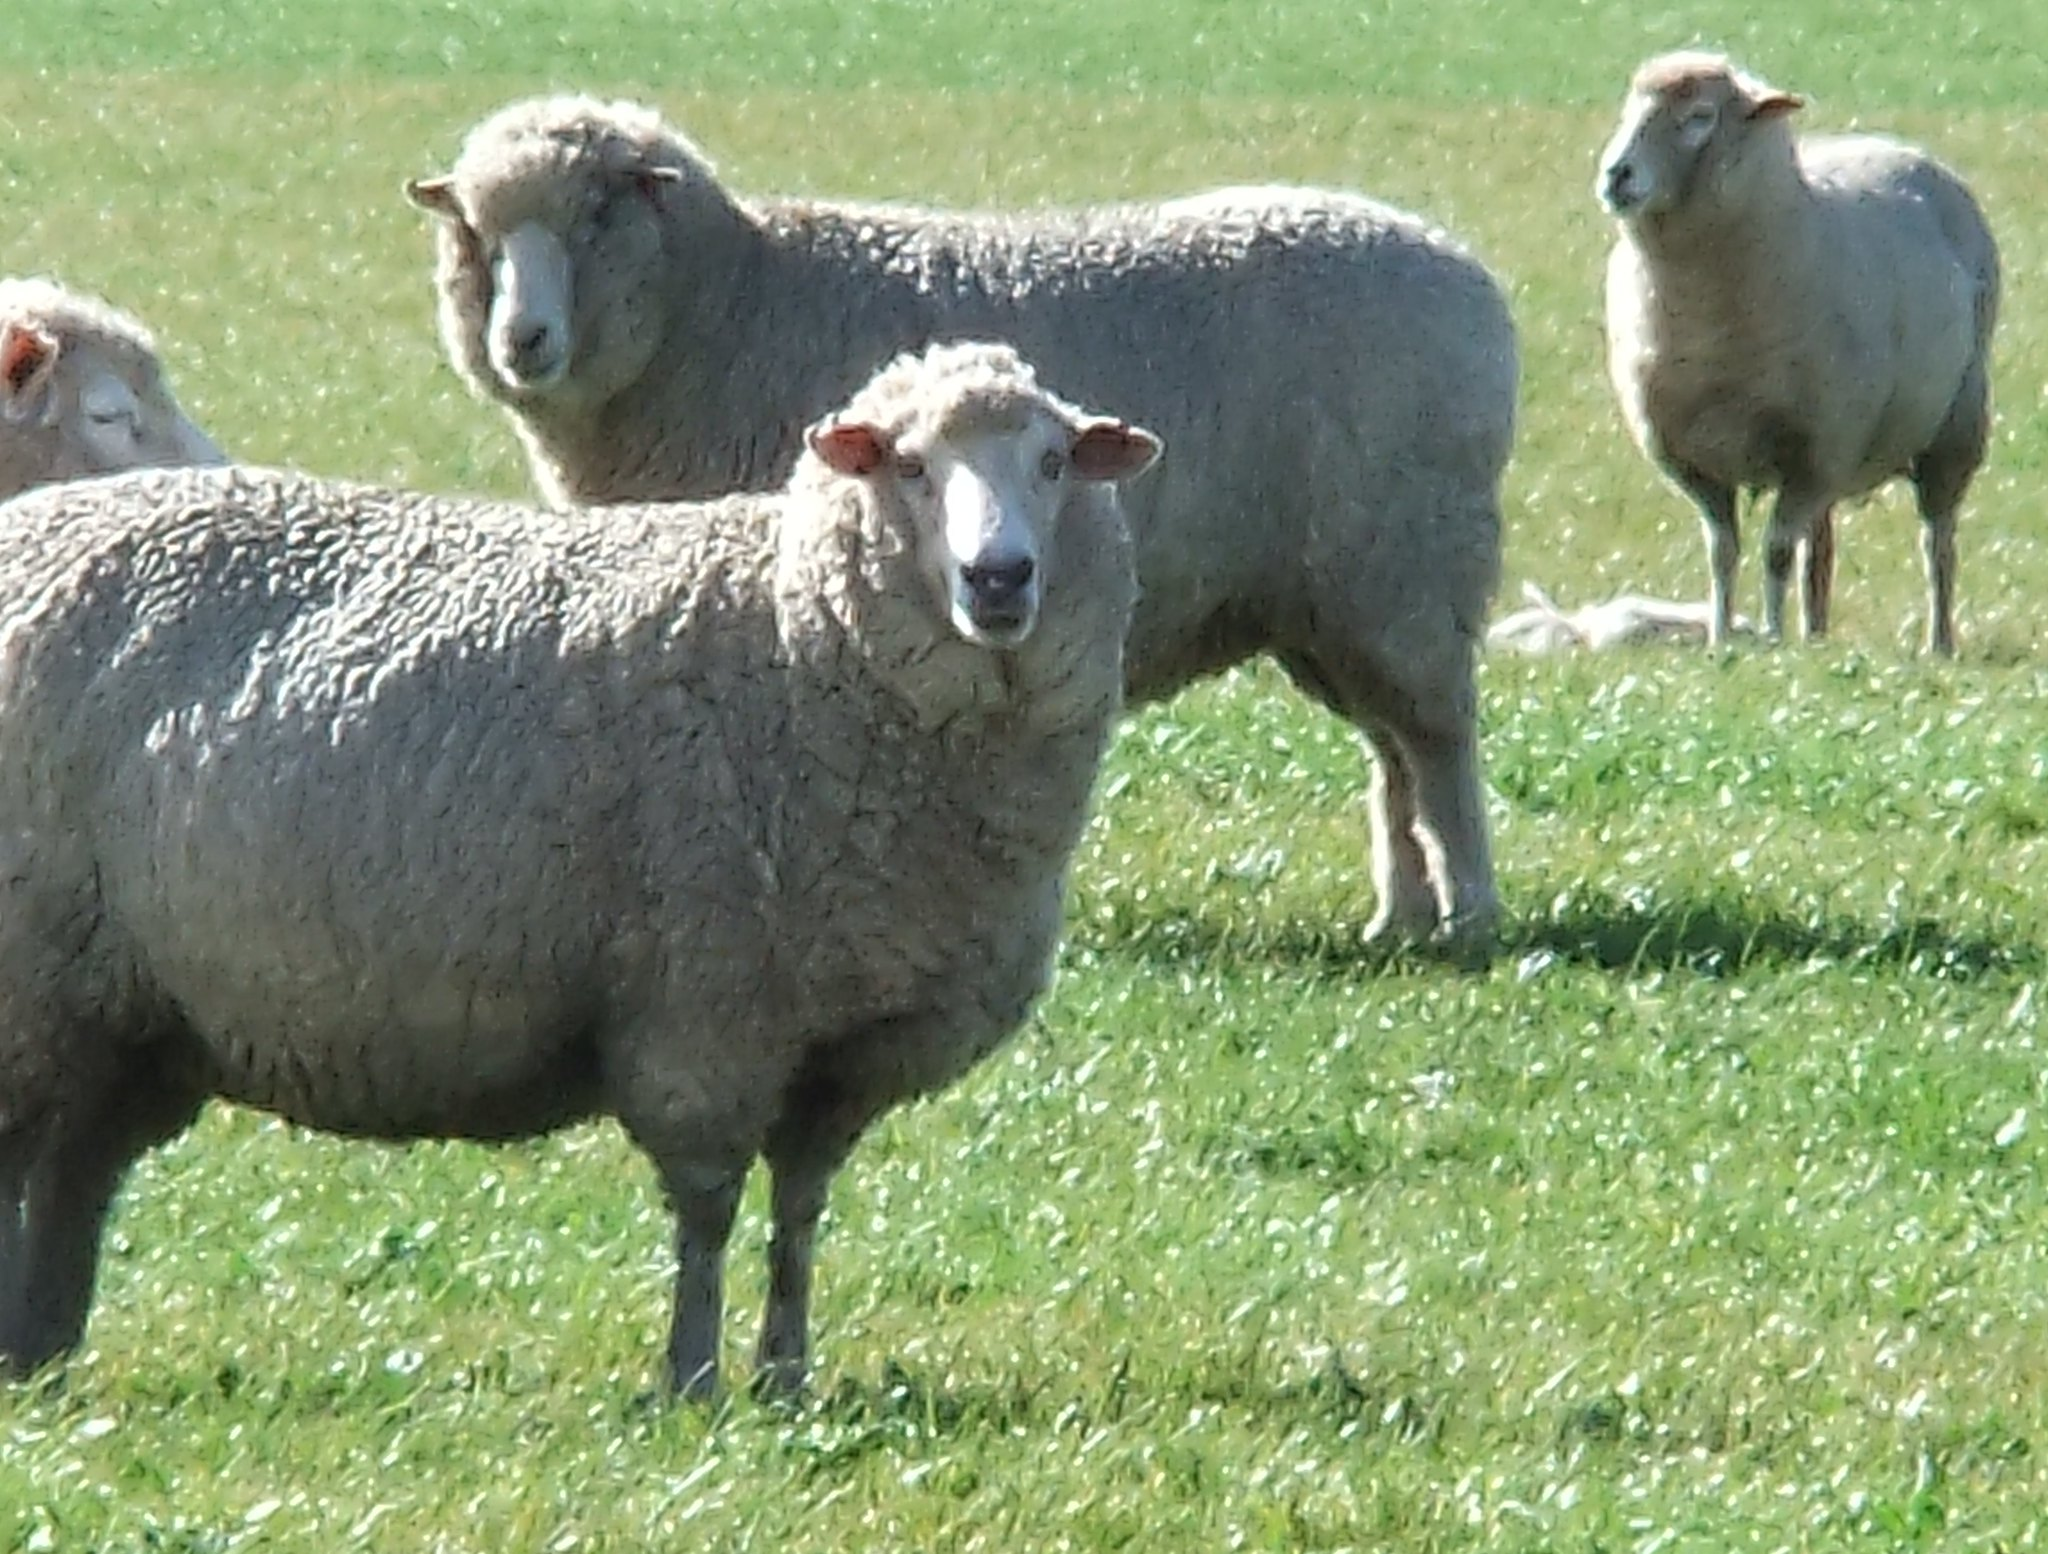sheep: (2, 328, 1170, 1495), (410, 96, 1598, 689), (1598, 60, 1999, 687)
